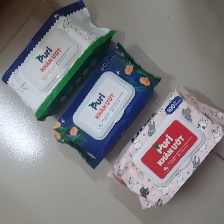Puri Trang: (2, 1, 116, 124)
Puri Xanh: (53, 42, 164, 176)
Puri hong: (105, 82, 224, 209)
